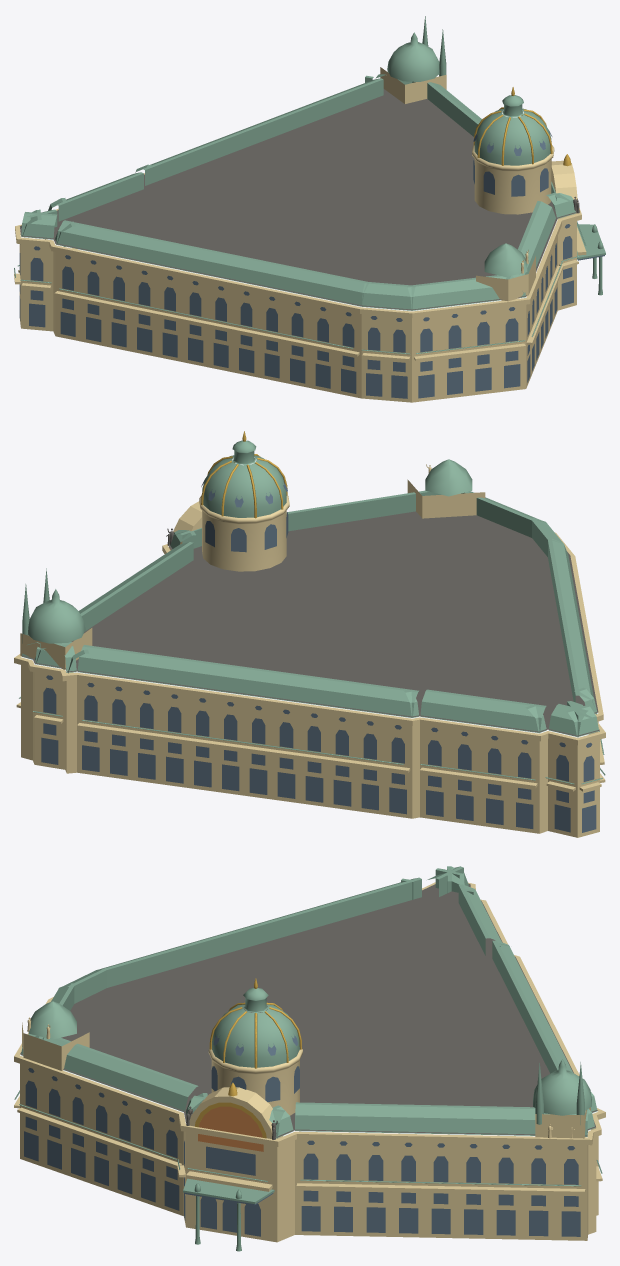
The model's file is prague-municipal-house.glb.
3 views of the same model, one above another, from view 1: azimuth 30°, elevation 25°; view 2: azimuth 150°, elevation 25°; view 3: azimuth 270°, elevation 25° (orthographic). The views are drawn at different scales.
Parts seen in each view (by area): view 1: Municipal House; view 2: Municipal House; view 3: Municipal House.
Boxes of the visible parts, x1=… form: Municipal House: x1=14, y1=16, x2=605, y2=402; Municipal House: x1=14, y1=431, x2=605, y2=837; Municipal House: x1=14, y1=866, x2=605, y2=1251.
Size of the model in its own units: 88.07 by 34.7 by 80.52.
